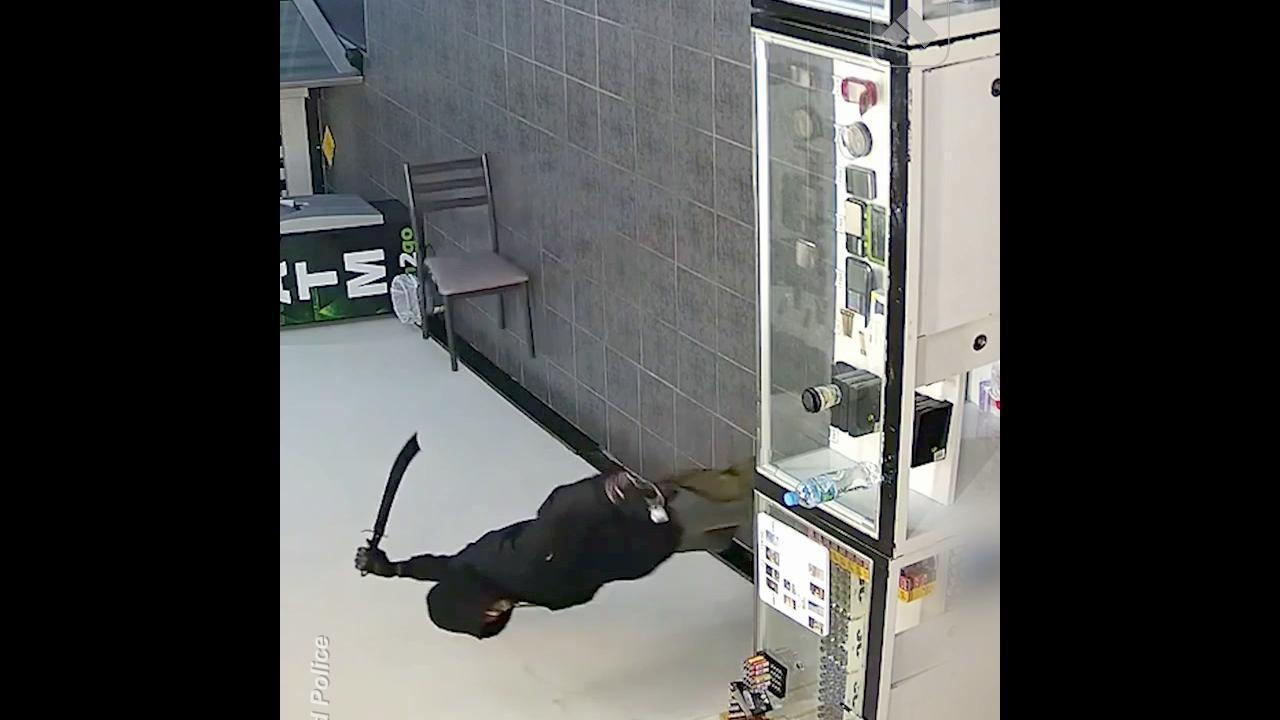melee: (359, 430, 424, 570)
